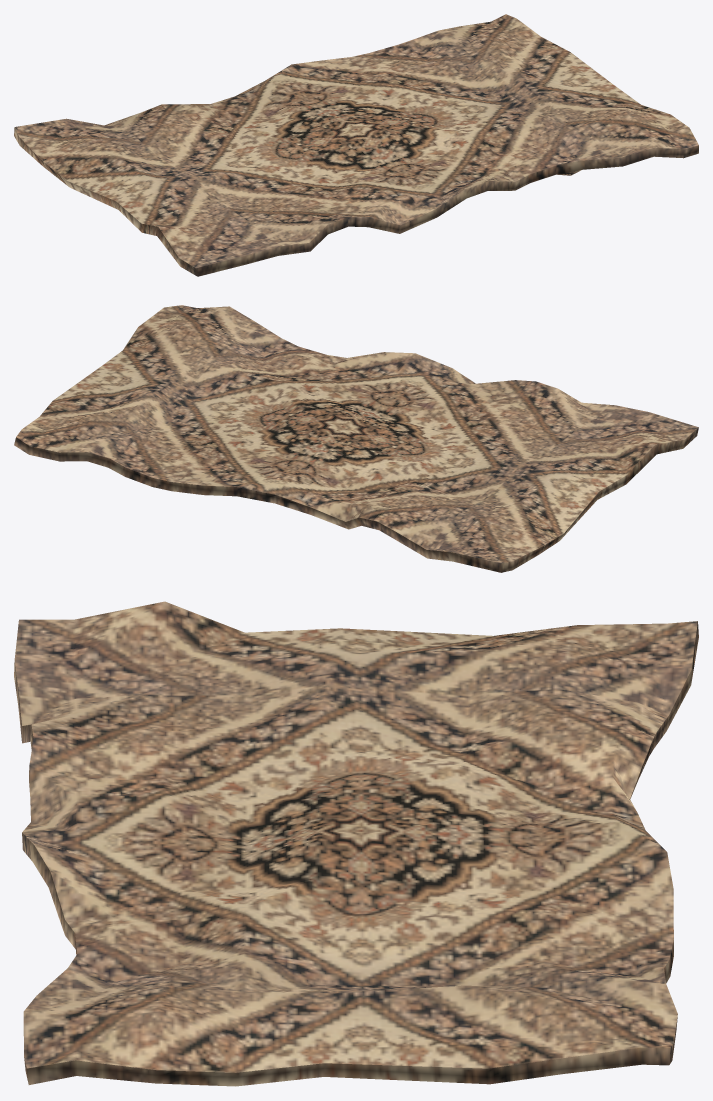
Rendered from carpet_3.fbx.
3 renders of one model, top to bottom at view 1: azimuth 30°, elevation 25°; view 2: azimuth 150°, elevation 25°; view 3: azimuth 270°, elevation 25°, orthographic. The views are drawn at different scales.
Parts seen in each view (by area): view 1: carpet_3; view 2: carpet_3; view 3: carpet_3.
Part boxes in pixels (x1=…): carpet_3: x1=14, y1=14, x2=698, y2=276; carpet_3: x1=14, y1=305, x2=698, y2=572; carpet_3: x1=14, y1=601, x2=698, y2=1086.
Bounding box in the file's own units: 201 × 13.15 × 128.
